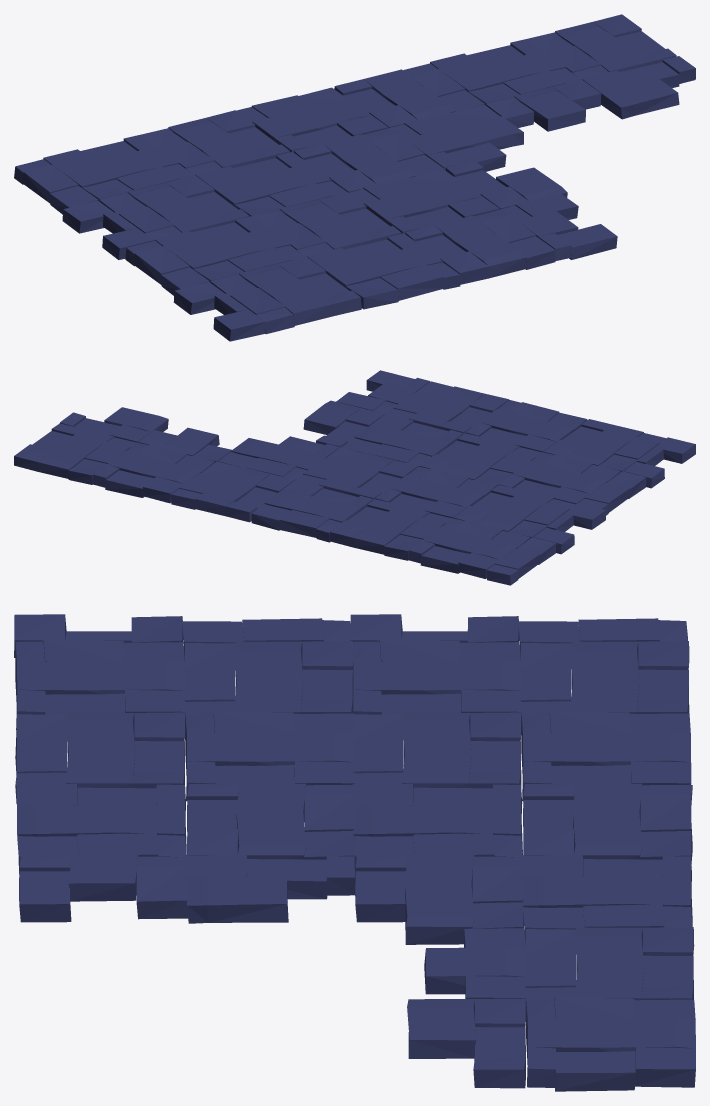
File: Ground_Single32_lvl1_mod01.FBX
The picture shows the model from 3 angles, top to bottom: view 1: azimuth 30°, elevation 25°; view 2: azimuth 150°, elevation 25°; view 3: azimuth 270°, elevation 25°; orthographic projection. The views are drawn at different scales.
Visible parts, largest first — view 1: Object129; view 2: Object129; view 3: Object129.
Boxes of the visible parts, x1,y1,x2,y2 form: Object129: [14, 14, 695, 341]; Object129: [14, 370, 695, 585]; Object129: [14, 614, 695, 1091].
Bounding box in the file's own units: 257 × 6.12 × 162.
